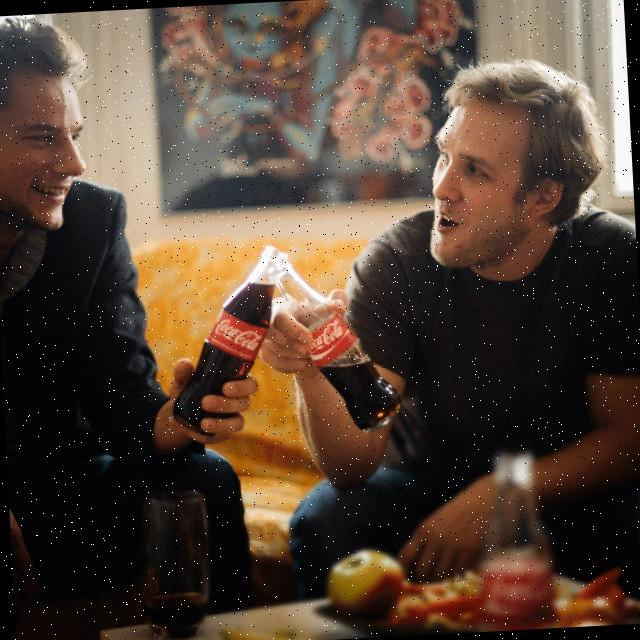coca-cola: (273, 247, 406, 442), (163, 247, 295, 439)
